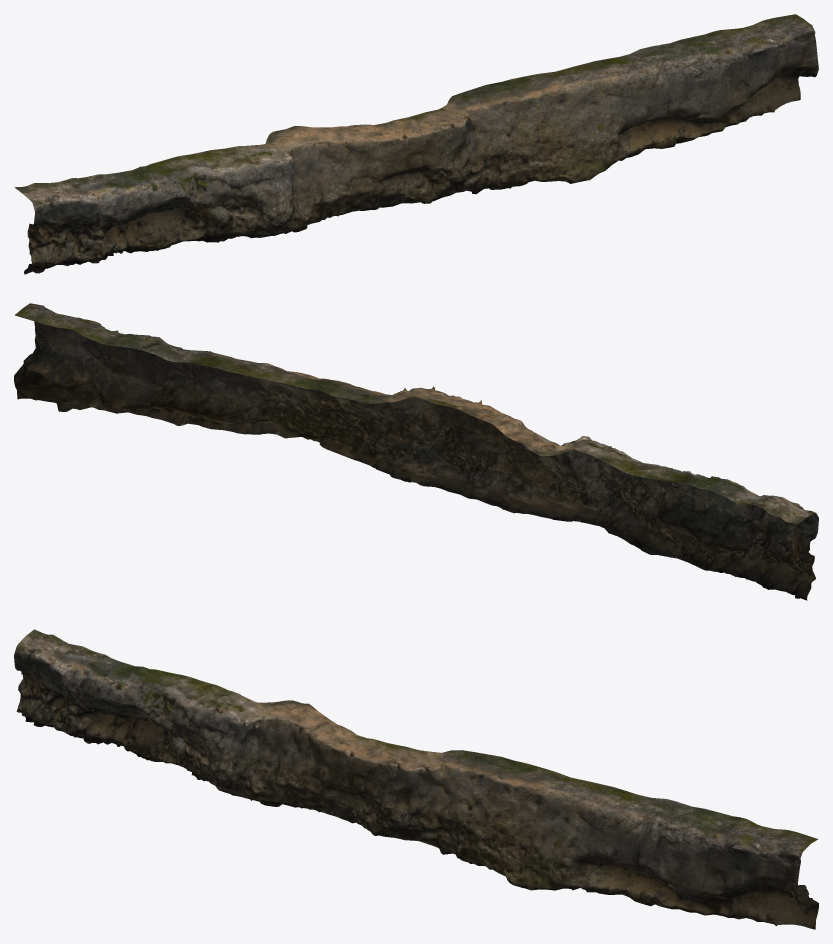
File: cliff.glb
3 views of the same model, one above another, from view 1: azimuth 30°, elevation 25°; view 2: azimuth 150°, elevation 25°; view 3: azimuth 330°, elevation 25° (orthographic). The views are drawn at different scales.
Visible parts, largest first — view 1: coastal_cliff_01; view 2: coastal_cliff_01; view 3: coastal_cliff_01.
Boxes of the visible parts, x1=… form: coastal_cliff_01: x1=14, y1=14, x2=818, y2=274; coastal_cliff_01: x1=14, y1=303, x2=818, y2=600; coastal_cliff_01: x1=14, y1=629, x2=818, y2=929.
Size of the model in its own units: 91.94 by 10.26 by 10.97.
Materials: 1 (1 with a texture image).
